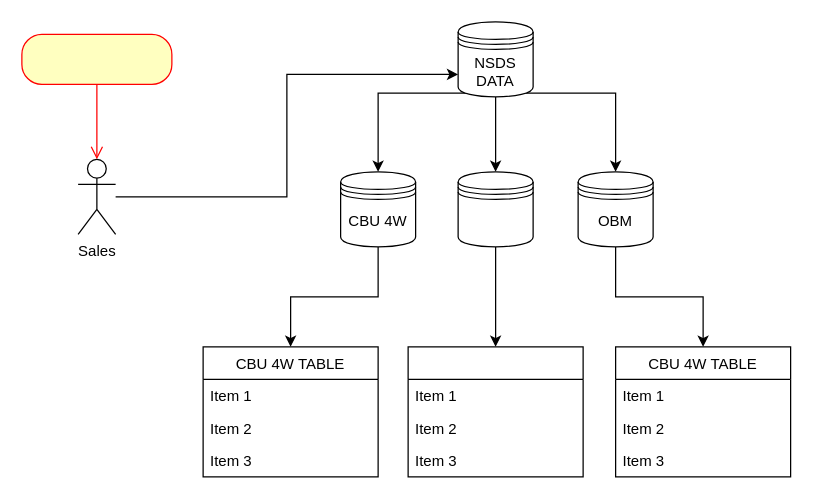
Some shapes in this 813 by 503 pixel diagram are drawn without their labels. Each missing label, with the box of its shape:
CBU 2W: (457, 171, 533, 247)
CBU 2W TABLE: (407, 346, 583, 477)
Upload CINV Data: (21, 33, 172, 84)
